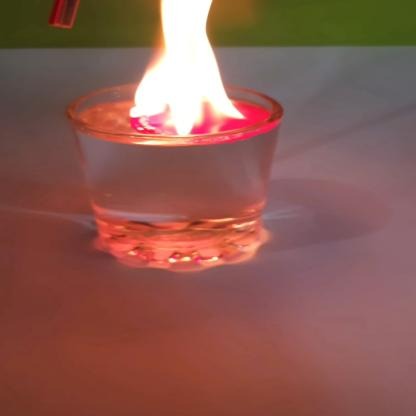Fire: (117, 0, 250, 133)
